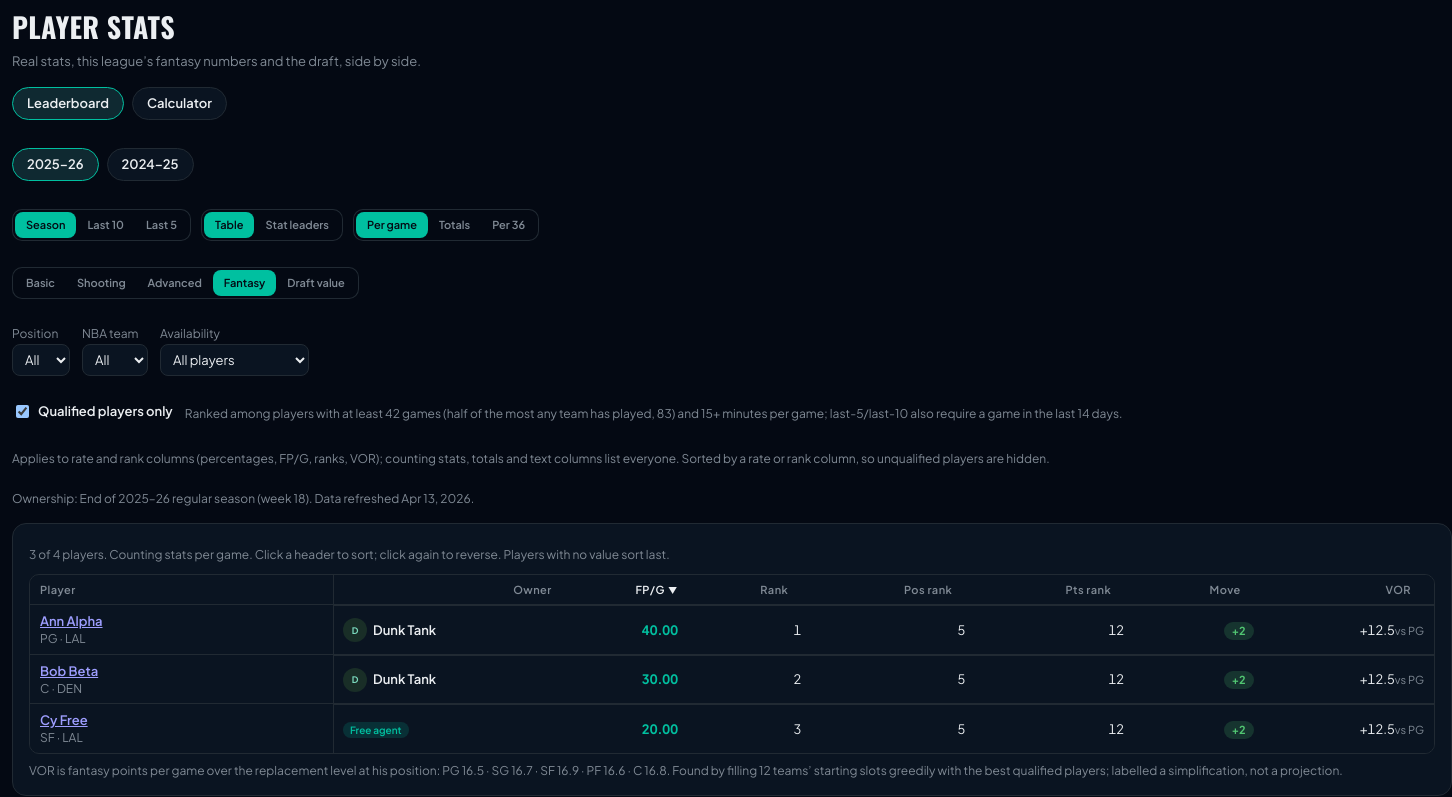
Test: StatLeaderboard › draft columns › says the draft has not happened, with no zero pick
Click the button "Draft value" at (316, 283), box [276,270,356,296]
(page scrolled)
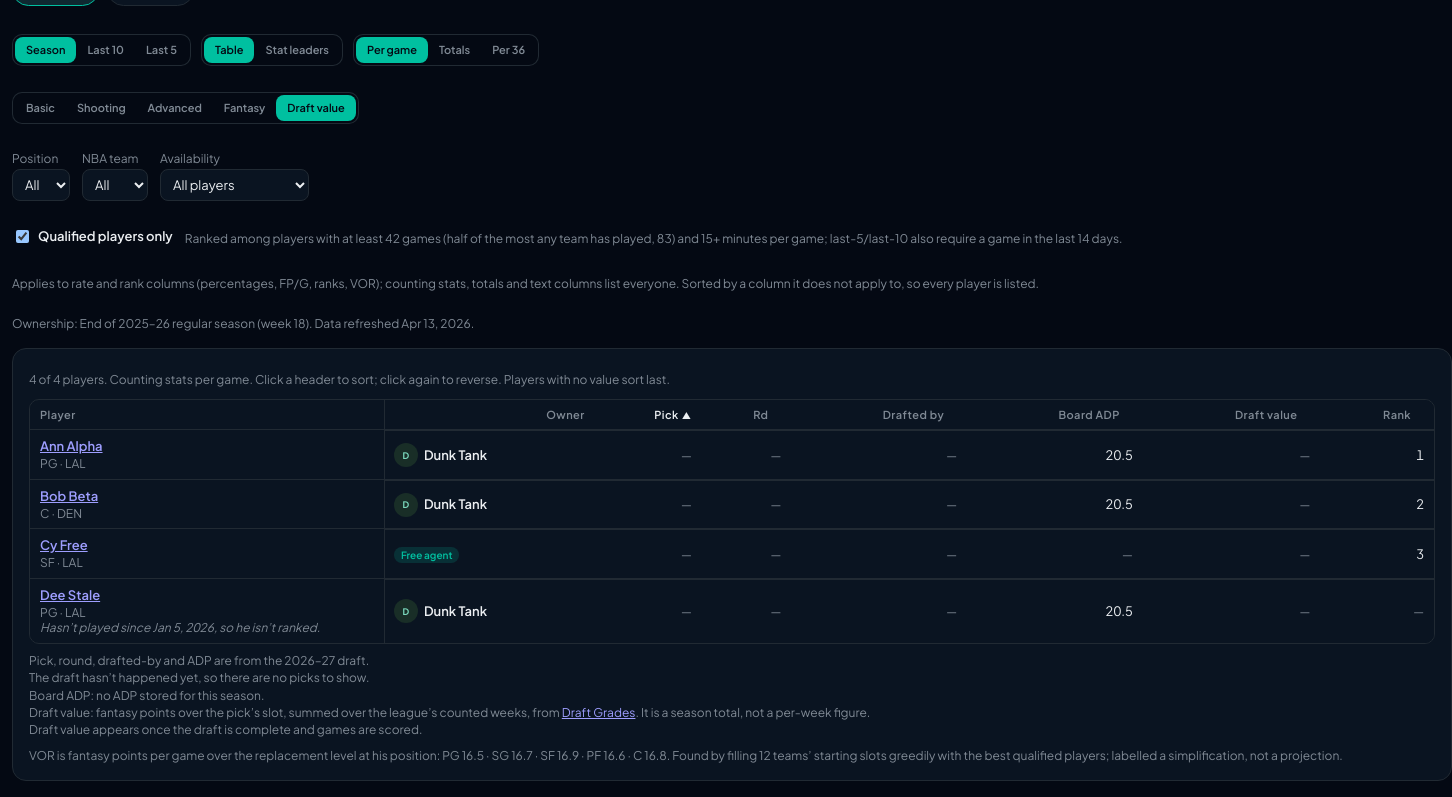
Check: the list item "The draft hasn’t happened yet" is shown, box [29,670,369,685]
Check: the list item "Draft value appears once the draft is complete and games are scored" is shown, box [29,722,422,737]
Check: the list item "Pick, round, drafted-by and ADP are from the 2026–27 draft." is shown, box [29,653,369,668]
